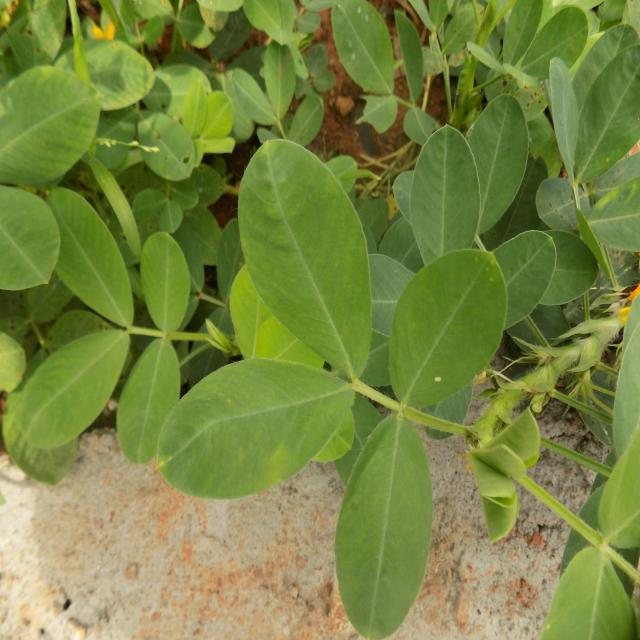Ground nut_healthy: (239, 139, 372, 388), (159, 358, 359, 503), (333, 409, 432, 640), (388, 248, 506, 400), (404, 128, 480, 319), (468, 91, 530, 238)
